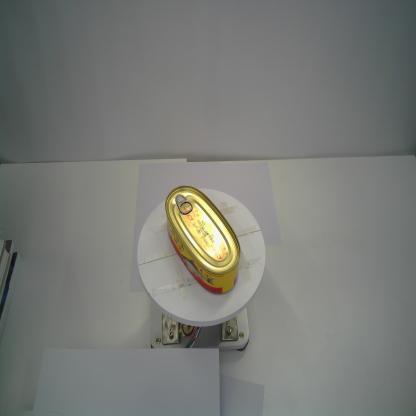Canned Food: (164, 185, 242, 295)
